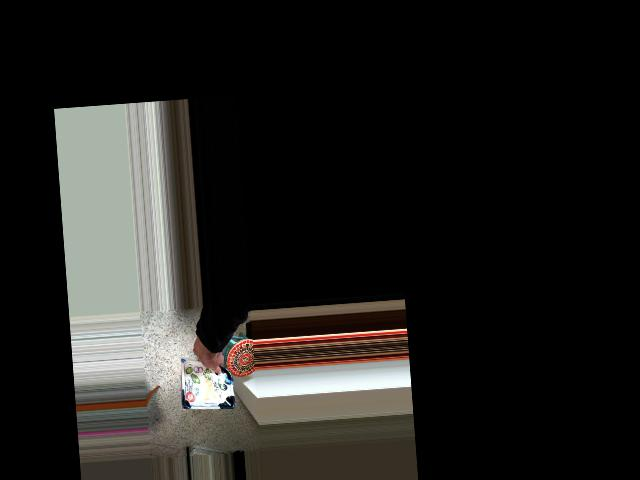cheese: (170, 338, 241, 410)
